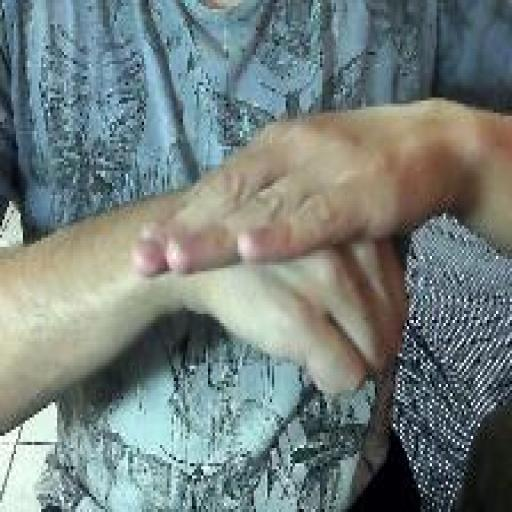Inu -dog-: (129, 105, 413, 401)
